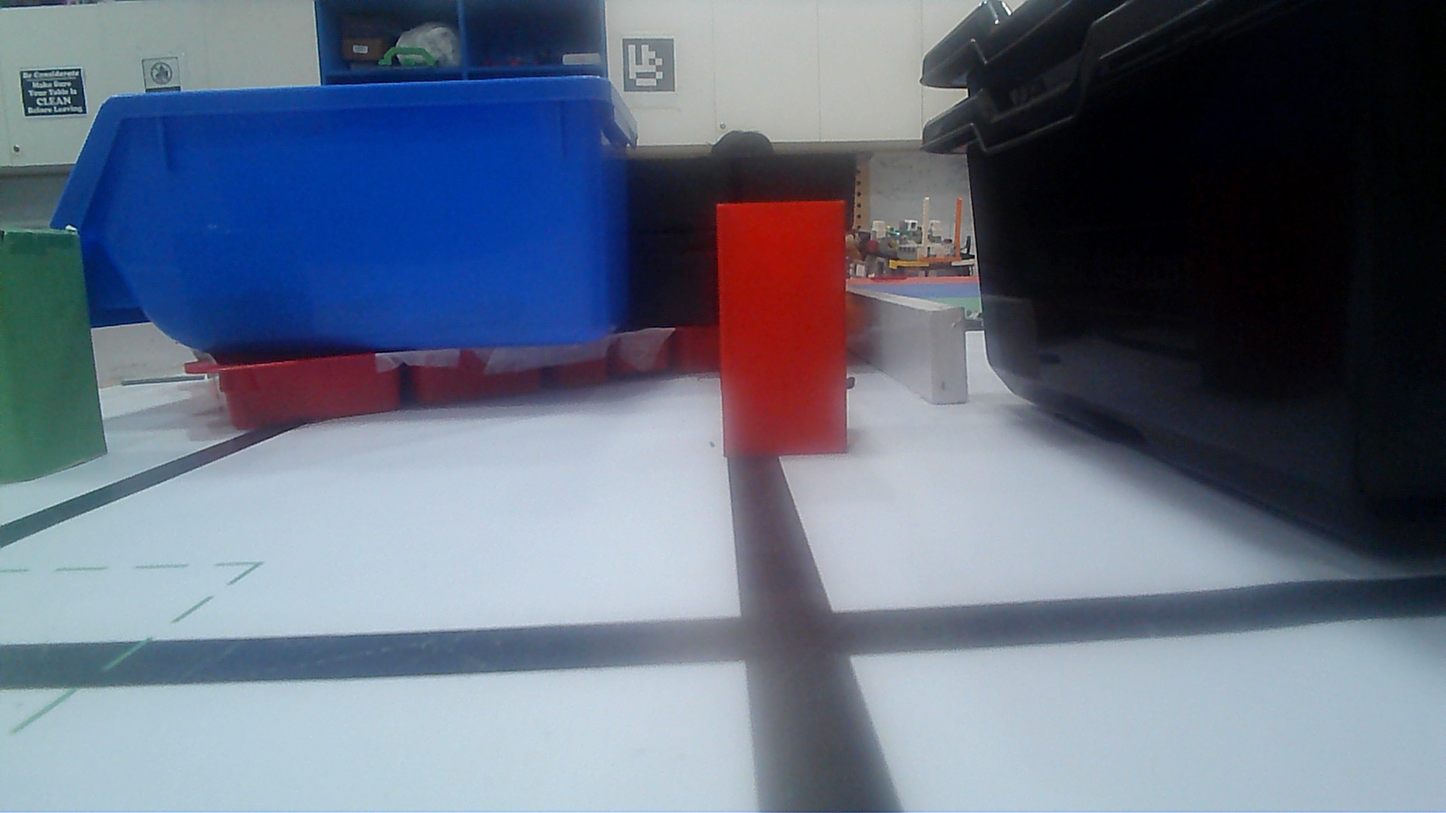red: (717, 199, 848, 461)
